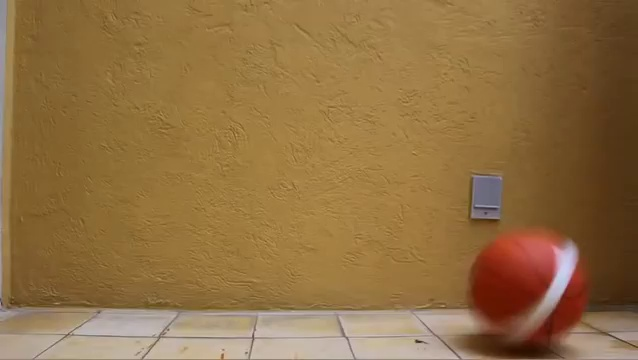ball: (471, 225, 593, 350)
